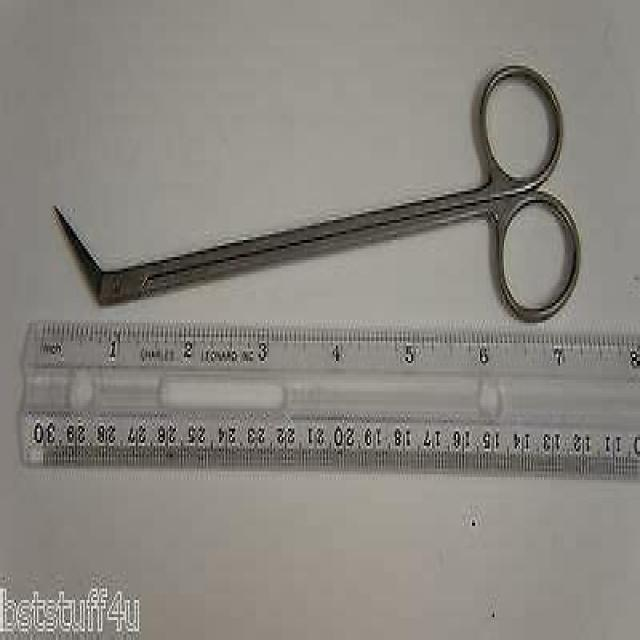Potts: (51, 57, 584, 329)
